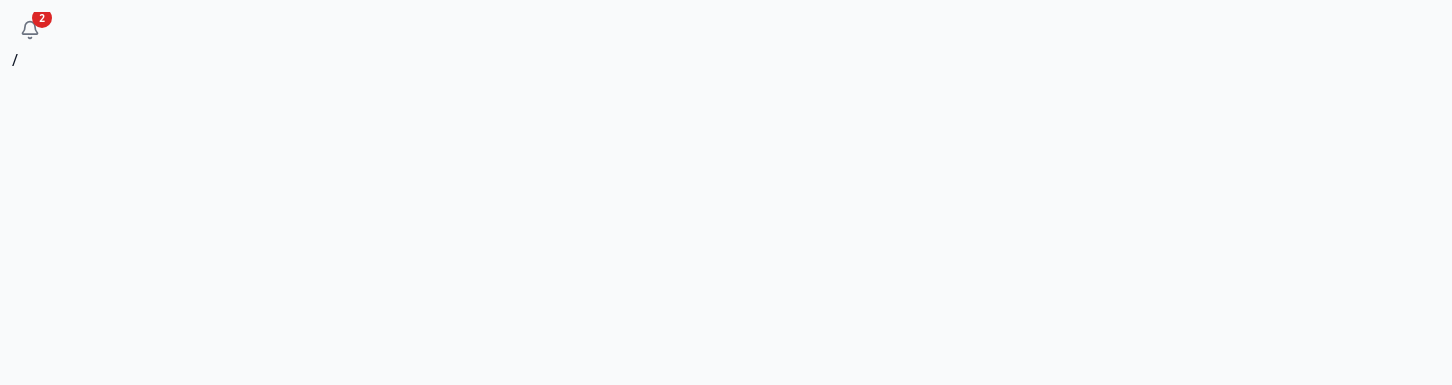
Test: NotificationBell › acknowledges an alert and decreases the badge
Click the button named "Notifications, 2 active alerts".
click(30, 30)  # box [12, 12, 48, 48]
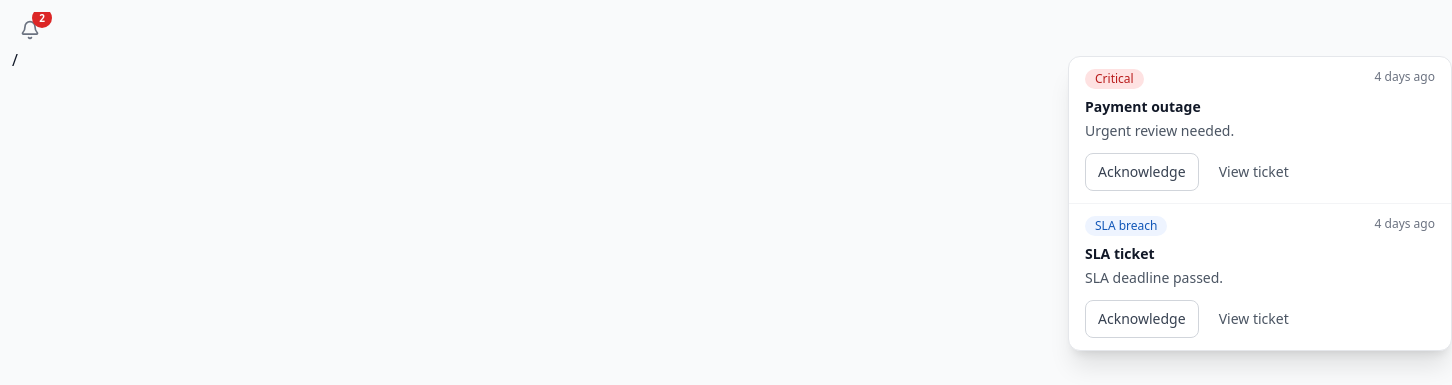
Click the button "Acknowledge" below "Urgent review needed.".
click(1142, 172)  # box [1085, 153, 1199, 191]
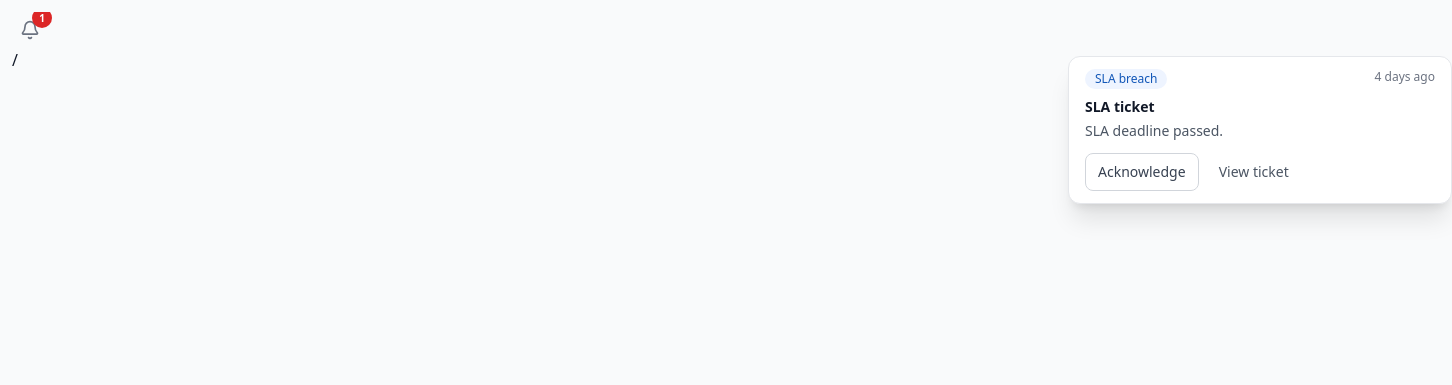
Check: the button named "Notifications, 1 active alerts" is shown, box [12, 12, 48, 48]
Check: the heading "Payment outage" is gone
